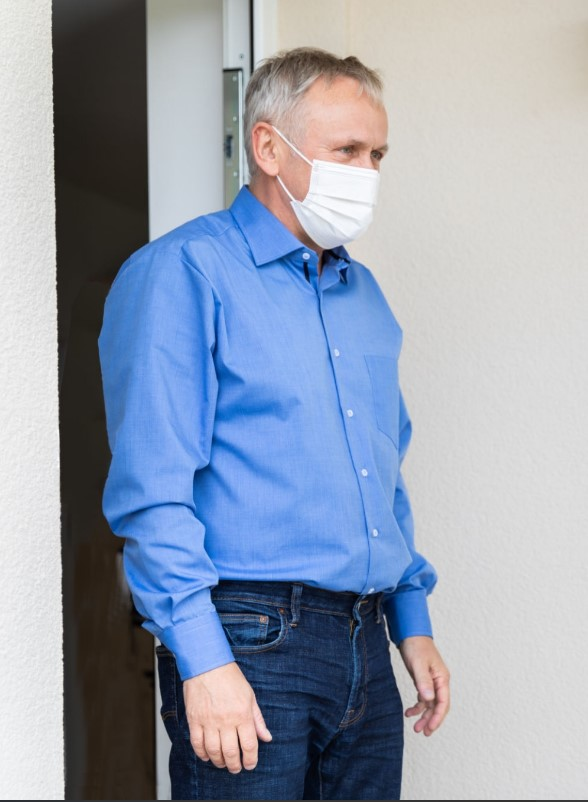face_with_mask: (241, 54, 388, 253)
